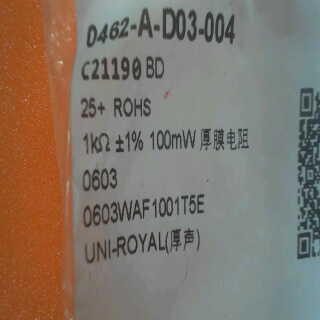1kR: (81, 130, 115, 158)
